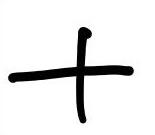plus: (7, 28, 131, 122)
